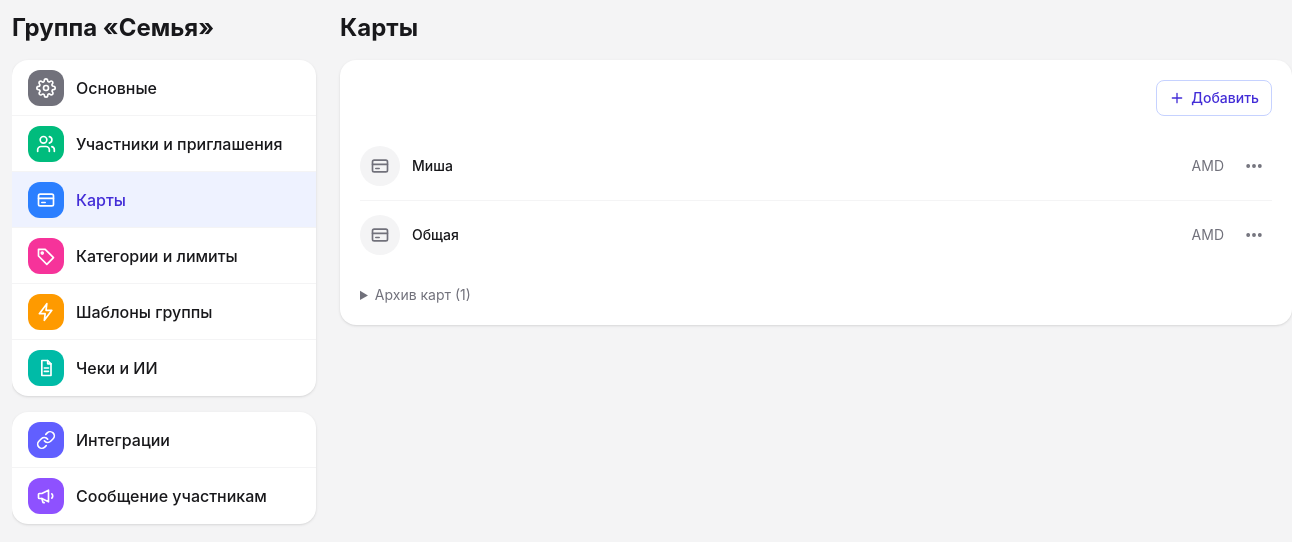
Test: меню «⋯» › Escape закрывает меню и возвращает фокус на кнопку
Expected: the heading "Карты" is shown, [340,13,418,42]
Click the button named "Действия: Общая": (1254, 235) [1236,217,1272,253]
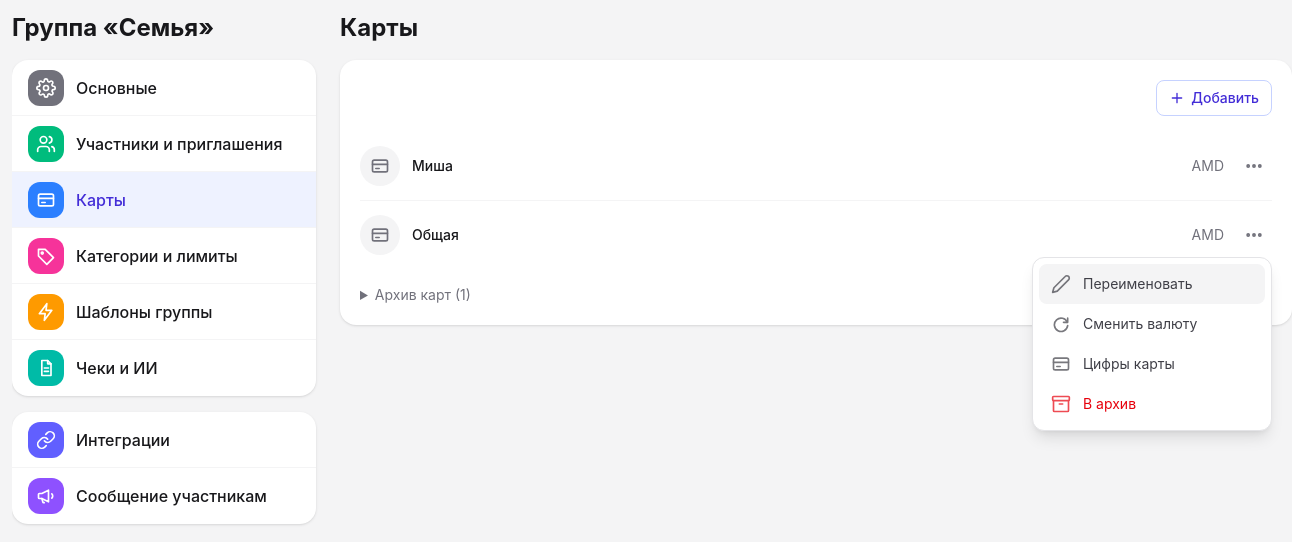
Press Escape
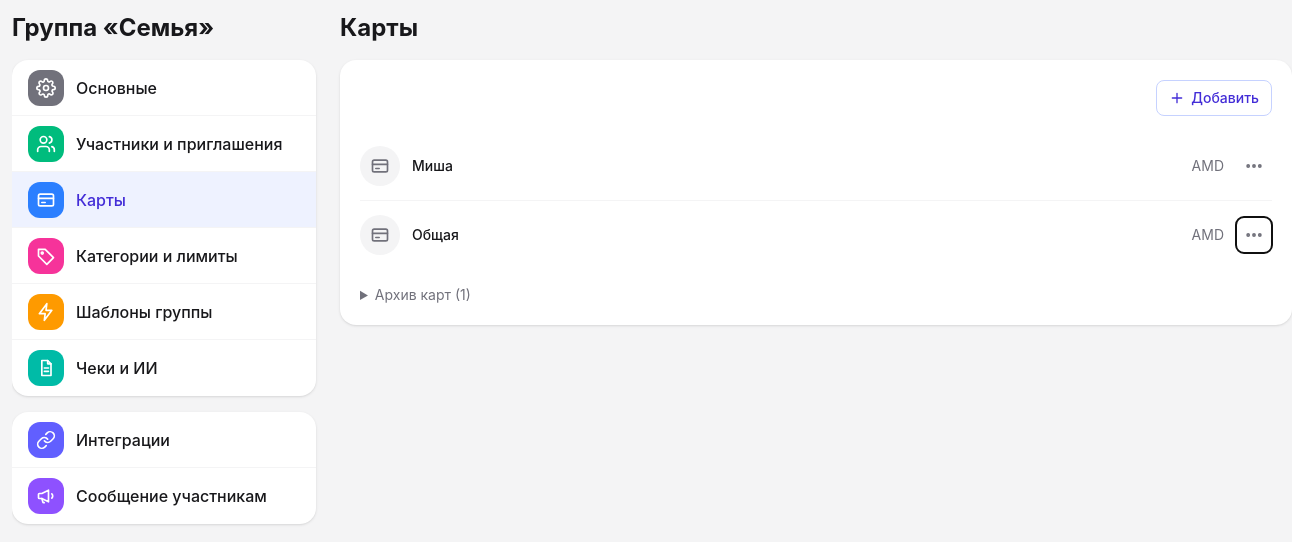
Now the menu is gone
